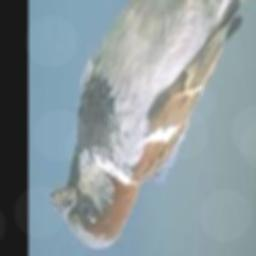Sparrow: (46, 0, 256, 251)
